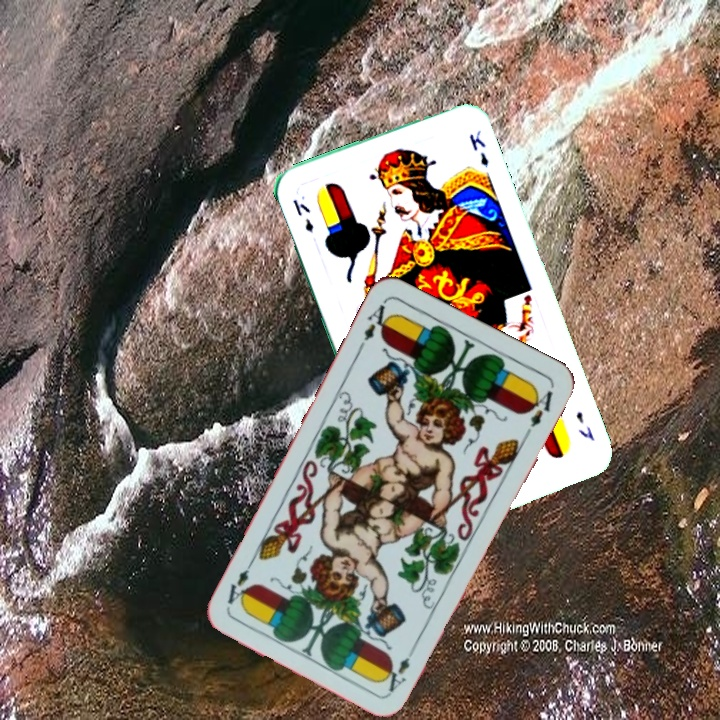EA: (354, 298, 394, 353), (384, 653, 413, 695)
EK: (289, 195, 316, 235), (572, 407, 597, 444)
